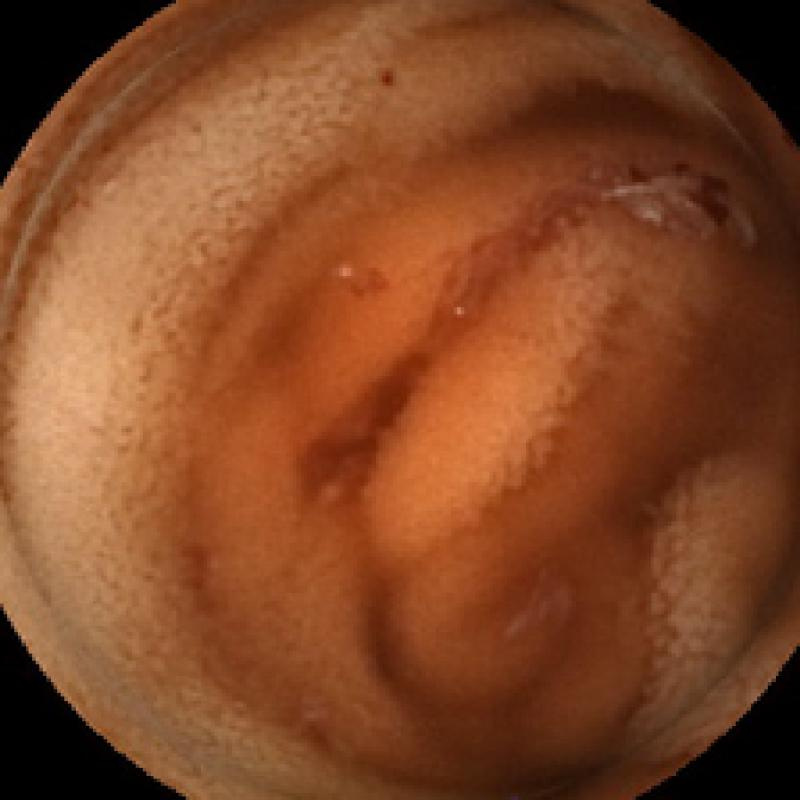bleeding: (622, 151, 752, 251), (368, 54, 407, 96)
